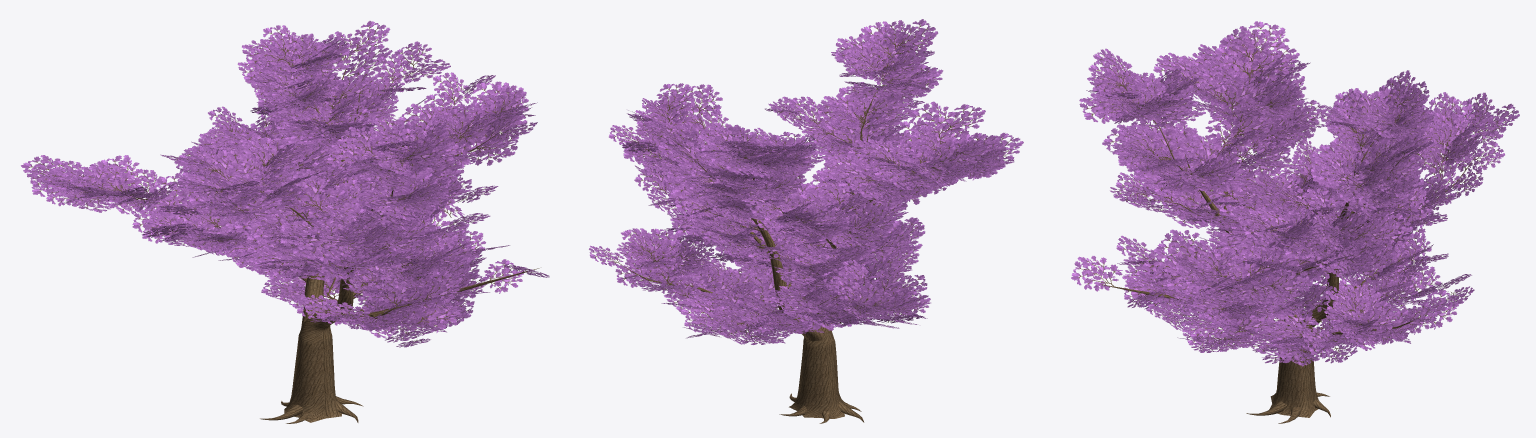
The model's file is fairy_hero_gloam_sheltered.glb.
3 renders of one model, left to right at view 1: azimuth 30°, elevation 25°; view 2: azimuth 150°, elevation 25°; view 3: azimuth 270°, elevation 25°, orthographic. The views are drawn at different scales.
Parts seen in each view (by area): view 1: fairy_hero_gloam_sheltered; view 2: fairy_hero_gloam_sheltered; view 3: fairy_hero_gloam_sheltered.
Part boxes in pixels (box(x1,y1,x2,y2)): fairy_hero_gloam_sheltered: box(21, 21, 549, 423); fairy_hero_gloam_sheltered: box(589, 19, 1023, 423); fairy_hero_gloam_sheltered: box(1071, 21, 1519, 423).
Size of the model in its own units: 13.97 by 11 by 13.13.
2 materials, 2 textured.
